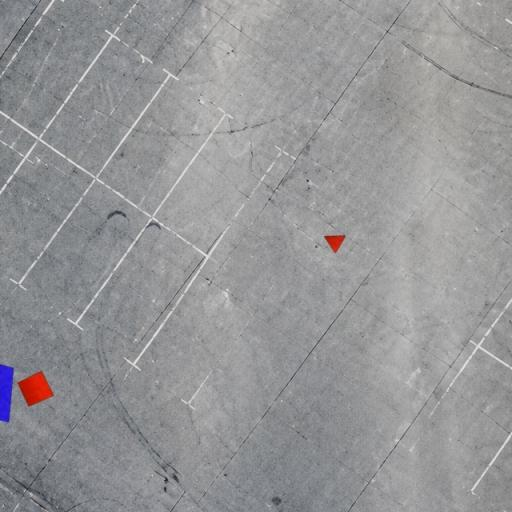RED_SQUARE: (18, 370, 54, 408)
